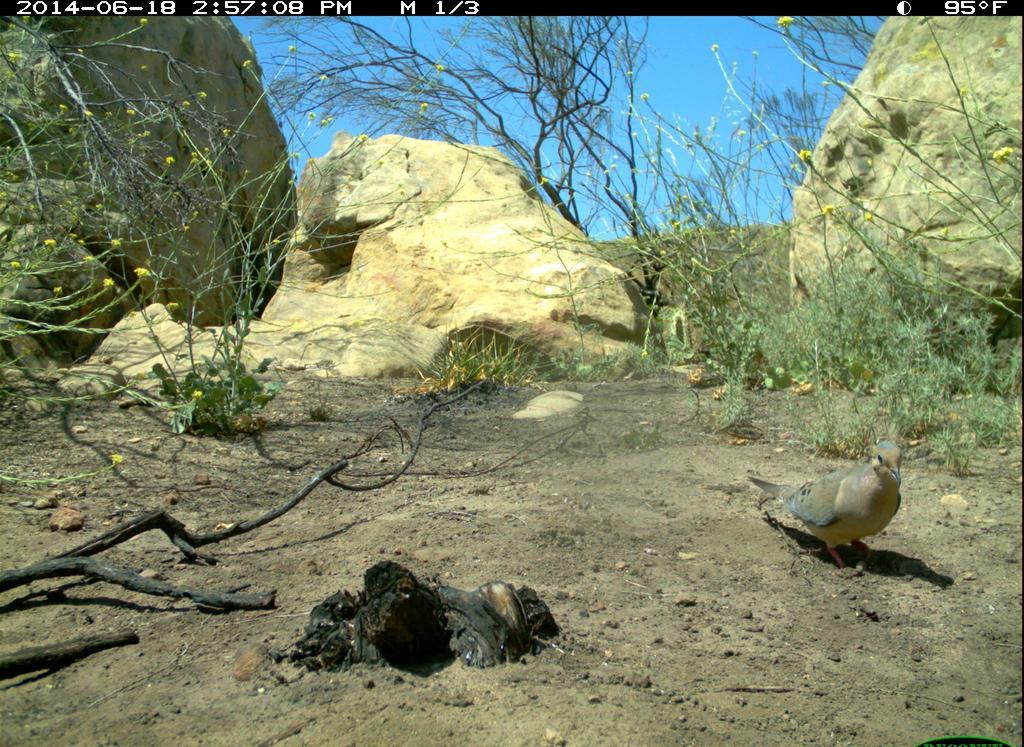bird: (738, 436, 920, 580)
